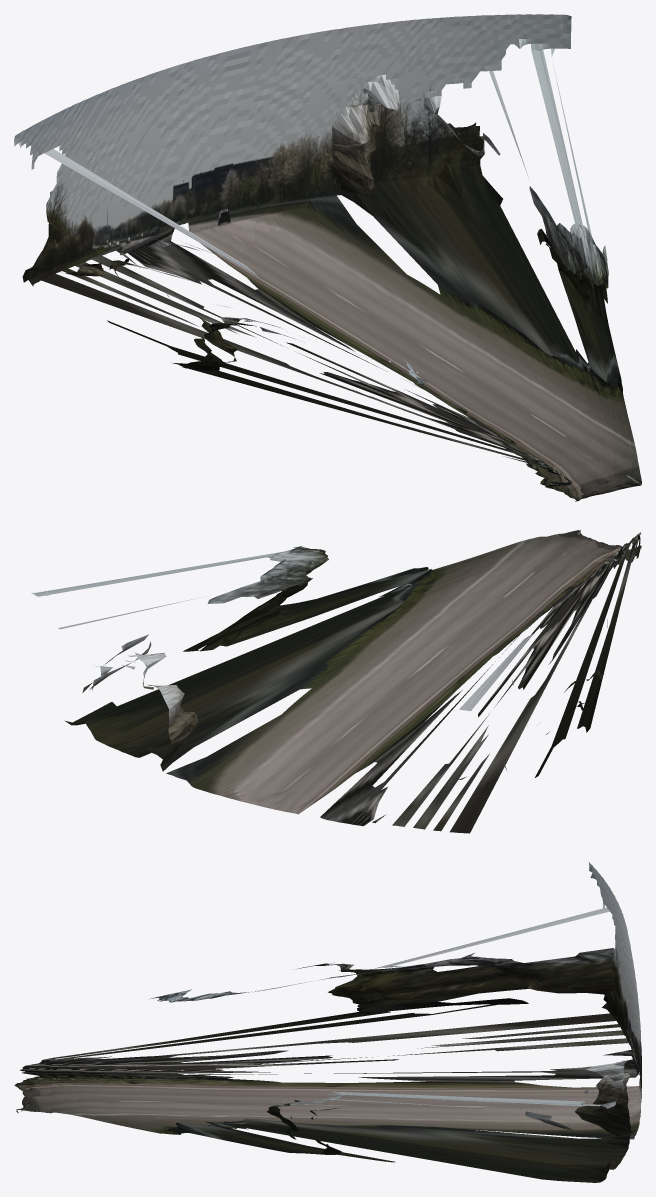
3 renders of one model, top to bottom at view 1: azimuth 30°, elevation 25°; view 2: azimuth 150°, elevation 25°; view 3: azimuth 270°, elevation 25°, orthographic. The views are drawn at different scales.
Visible parts, largest first — view 1: defaultobject; view 2: defaultobject; view 3: defaultobject.
Part boxes in pixels (box(x1,y1,x2,y2)): defaultobject: box(14, 14, 641, 501); defaultobject: box(31, 530, 641, 833); defaultobject: box(14, 862, 641, 1182).
Size of the model in its own units: 37.38 by 12.04 by 44.84.
1 material, 1 textured.
